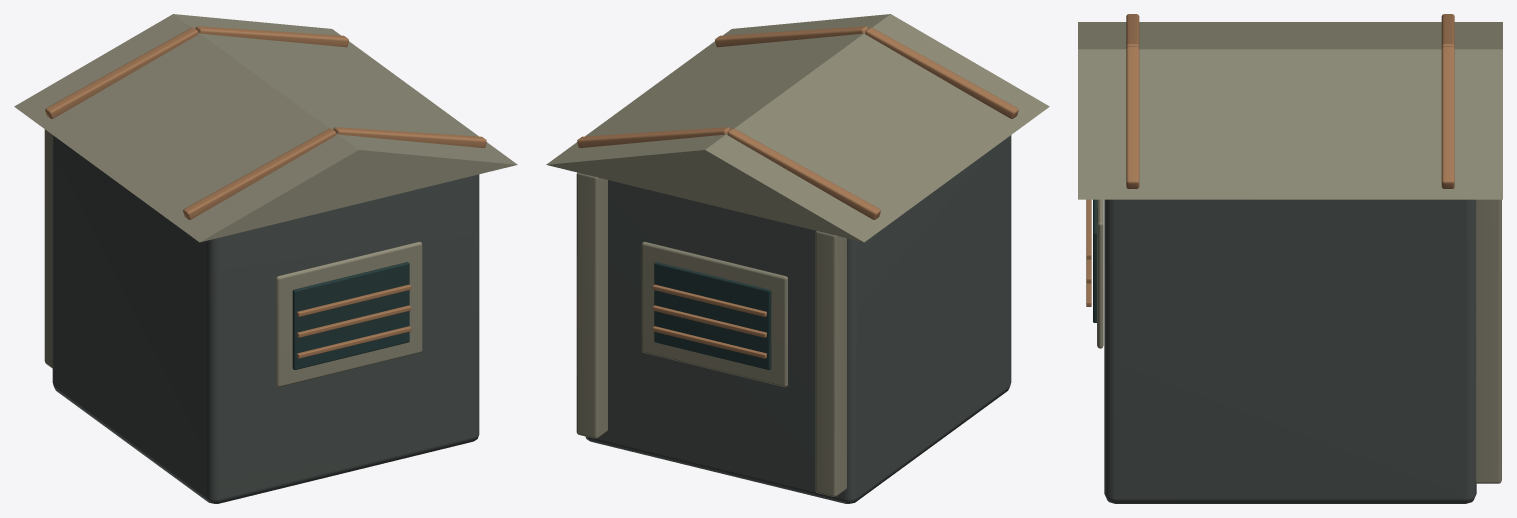
The model's file is outpost-top-0.glb.
3 views of the same model, side by side, from view 1: azimuth 30°, elevation 25°; view 2: azimuth 150°, elevation 25°; view 3: azimuth 270°, elevation 25° (orthographic). The views are drawn at different scales.
Parts seen in each view (by area): view 1: outpost_0, outpost_1, outpost_3, outpost_2; view 2: outpost_1, outpost_0, outpost_3, outpost_2; view 3: outpost_0, outpost_1, outpost_3, outpost_2.
Part boxes in pixels (x1=…): outpost_0: x1=52, y1=135, x2=479, y2=503; outpost_1: x1=14, y1=14, x2=517, y2=387; outpost_3: x1=45, y1=26, x2=486, y2=358; outpost_2: x1=292, y1=262, x2=409, y2=369; outpost_1: x1=546, y1=14, x2=1049, y2=496; outpost_0: x1=585, y1=135, x2=1011, y2=503; outpost_3: x1=577, y1=26, x2=1018, y2=358; outpost_2: x1=654, y1=262, x2=771, y2=369; outpost_0: x1=1104, y1=199, x2=1476, y2=503; outpost_1: x1=1078, y1=22, x2=1502, y2=483; outpost_3: x1=1086, y1=14, x2=1454, y2=306; outpost_2: x1=1093, y1=199, x2=1096, y2=322.
Bounding box in the file's own units: 0.96 × 0.9742 × 0.97.
